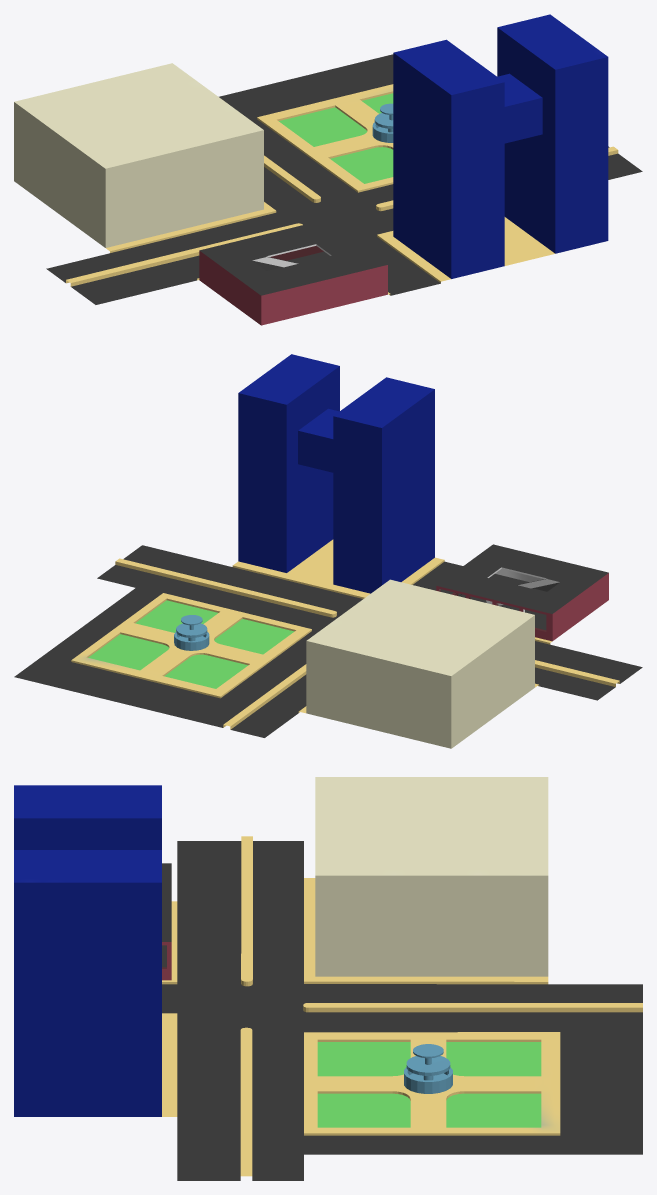
Rendered from C.C.Level1.fbx.
The picture shows the model from 3 angles, top to bottom: view 1: azimuth 30°, elevation 25°; view 2: azimuth 150°, elevation 25°; view 3: azimuth 270°, elevation 25°; orthographic projection. The views are drawn at different scales.
Parts seen in each view (by area): view 1: Prorotype; view 2: Prorotype; view 3: Prorotype.
Part boxes in pixels (x1=…): Prorotype: x1=14, y1=14, x2=642, y2=325; Prorotype: x1=14, y1=354, x2=642, y2=748; Prorotype: x1=14, y1=777, x2=642, y2=1180.
Size of the model in its own units: 17263 by 5605 by 13496.
